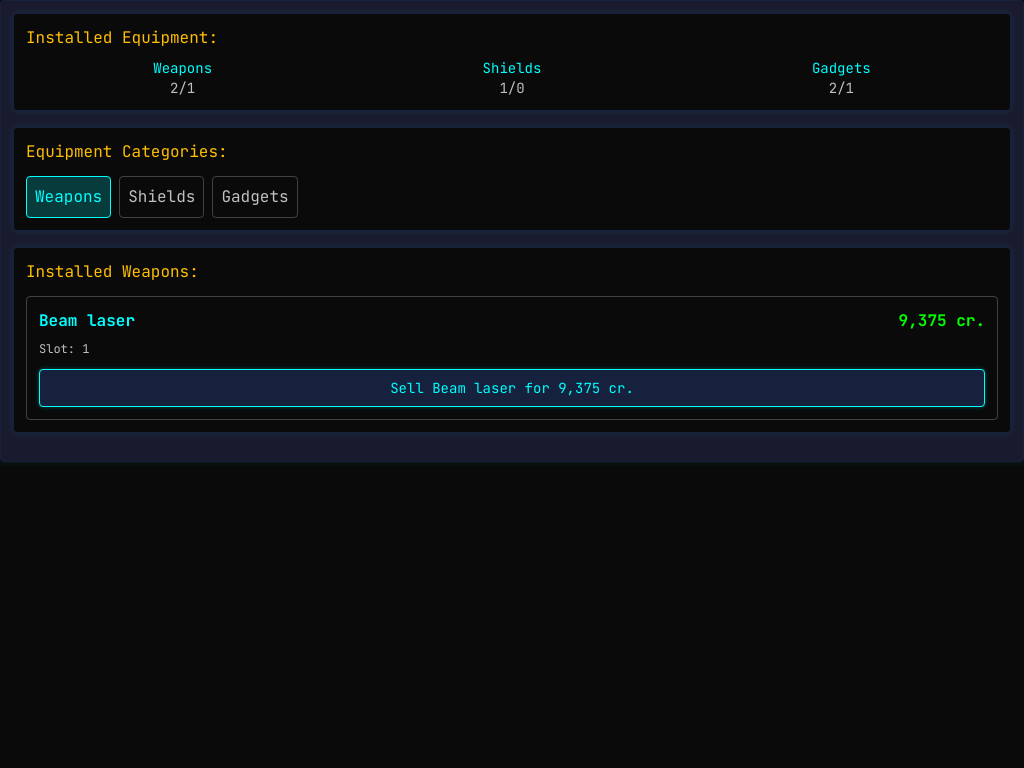
Scenario: SellEquipmentScreen › should show success message after successful sale
Click the button "Sell Beam laser for 9,375 cr.": {"x": 512, "y": 388} [39,369,985,407]
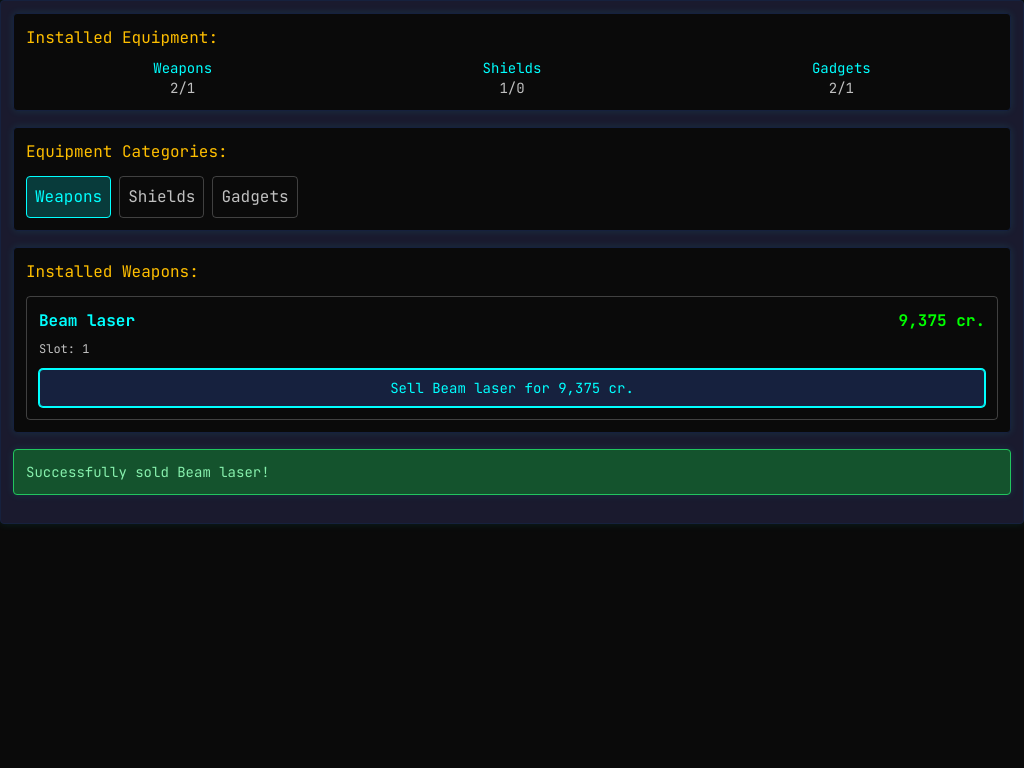
Now the text "Successfully sold Beam laser!" is shown, box [26,463,270,481]
